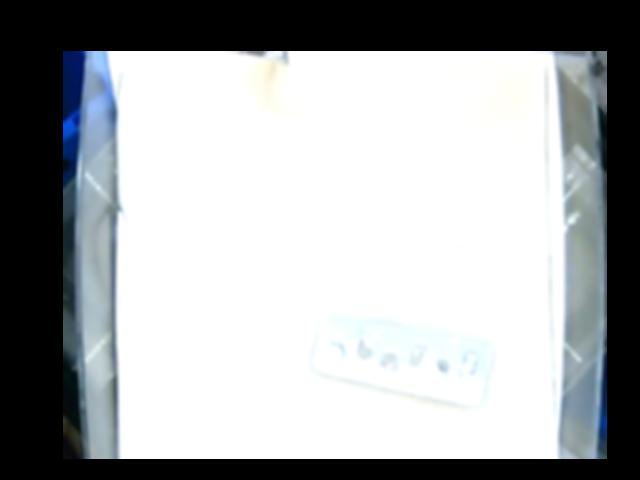Medicine: (312, 312, 497, 399)
